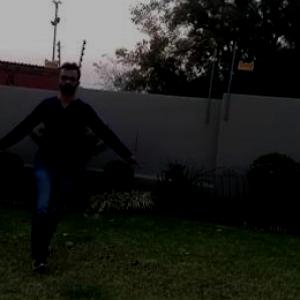land: (0, 69, 127, 248)
